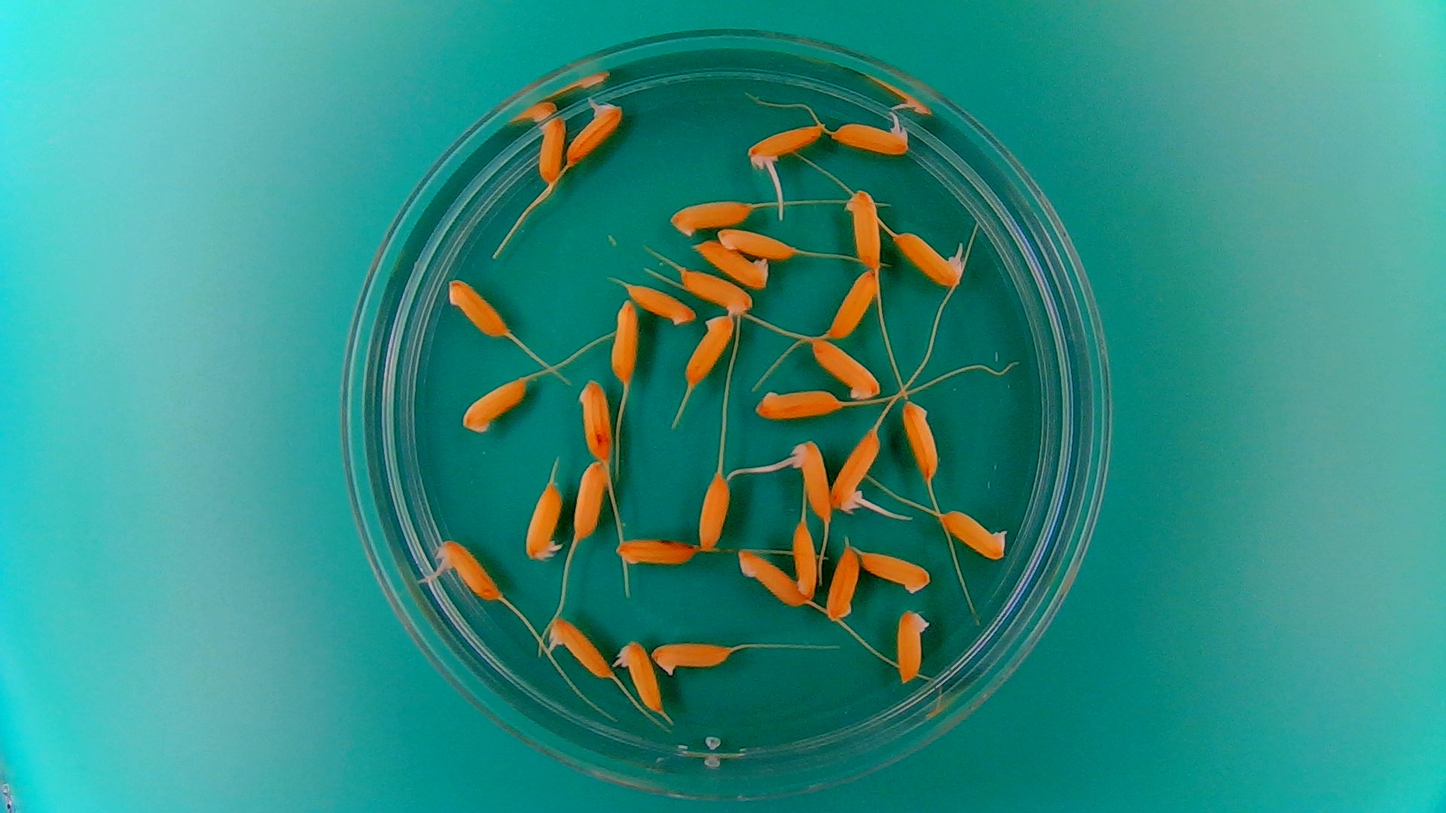no: (458, 371, 532, 434), (807, 338, 880, 400), (735, 547, 810, 606), (443, 276, 512, 340), (681, 310, 739, 386), (822, 270, 880, 344), (677, 266, 756, 320), (689, 238, 770, 290), (937, 506, 1009, 562), (666, 195, 756, 239), (840, 185, 886, 271), (523, 477, 567, 562), (620, 280, 700, 325), (855, 550, 935, 595), (570, 459, 613, 540), (648, 638, 735, 678), (612, 534, 698, 573), (890, 606, 932, 685), (901, 398, 941, 480), (575, 376, 614, 460), (822, 542, 861, 625), (712, 224, 799, 261), (752, 388, 845, 422), (696, 469, 731, 551), (610, 296, 642, 385), (792, 516, 822, 601), (535, 113, 567, 184)
yes: (830, 426, 883, 516), (545, 620, 619, 680), (897, 233, 966, 288), (748, 120, 825, 169), (438, 542, 499, 601), (566, 101, 620, 166), (615, 642, 662, 712), (794, 435, 832, 517), (837, 120, 913, 157)
